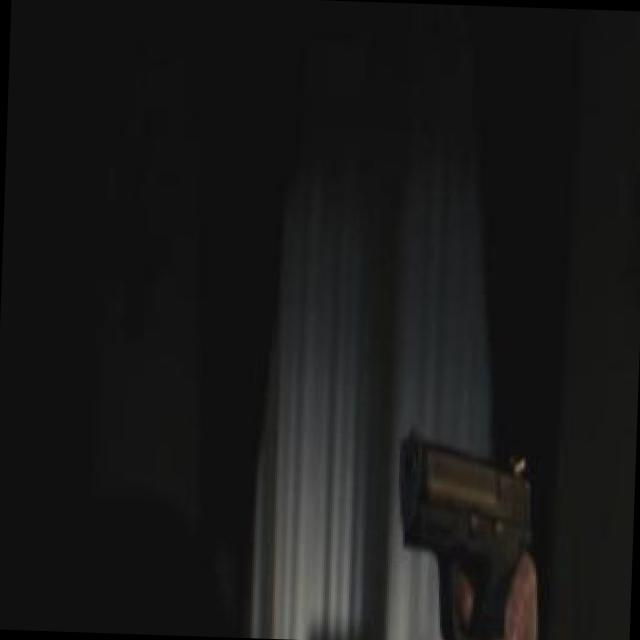Guns: (364, 394, 587, 640)
